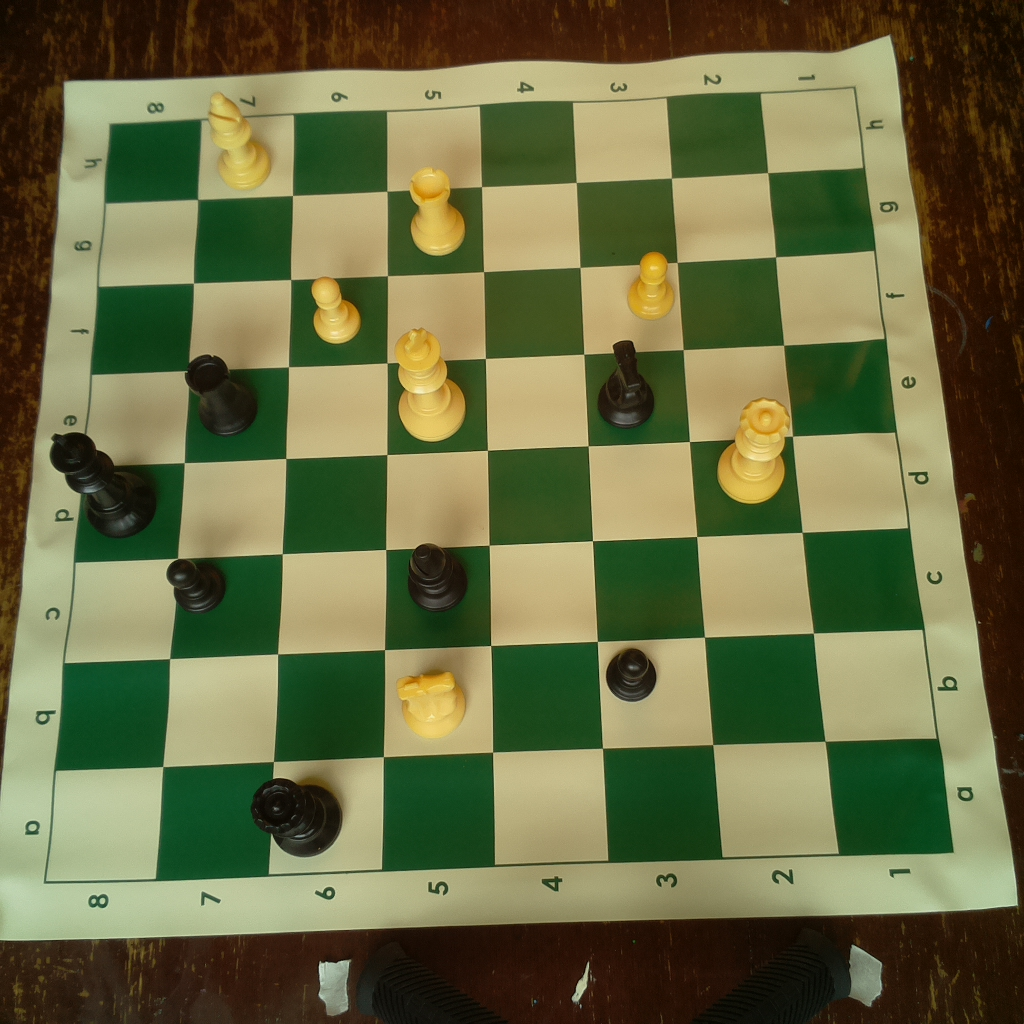black_bishop: (405, 539, 471, 614)
black_king: (44, 425, 160, 541)
black_knight: (592, 332, 663, 428)
black_pawn: (603, 632, 666, 712), (166, 549, 232, 614)
black_queen: (247, 773, 347, 860)
black_rook: (181, 348, 262, 438)
file_a: (45, 741, 954, 886)
file_b: (54, 628, 940, 769)
file_c: (62, 530, 923, 665)
file_d: (77, 432, 911, 564)
file_e: (83, 340, 896, 469)
file_f: (92, 248, 886, 375)
file_g: (98, 166, 873, 286)
file_h: (105, 87, 867, 204)
outline: (44, 87, 954, 882)
rank_1: (760, 87, 951, 856)
rank_2: (667, 92, 841, 856)
rank_3: (573, 99, 725, 861)
rank_4: (480, 102, 611, 865)
rank_5: (379, 106, 494, 871)
rank_6: (264, 110, 389, 875)
rank_7: (155, 114, 293, 882)
rank_8: (44, 119, 202, 884)
white_bishop: (205, 91, 270, 193)
white_king: (386, 327, 475, 443)
white_knight: (388, 665, 472, 741)
white_pawn: (625, 244, 685, 325), (308, 274, 364, 347)
white_queen: (715, 390, 796, 505)
white_rook: (405, 166, 470, 253)
